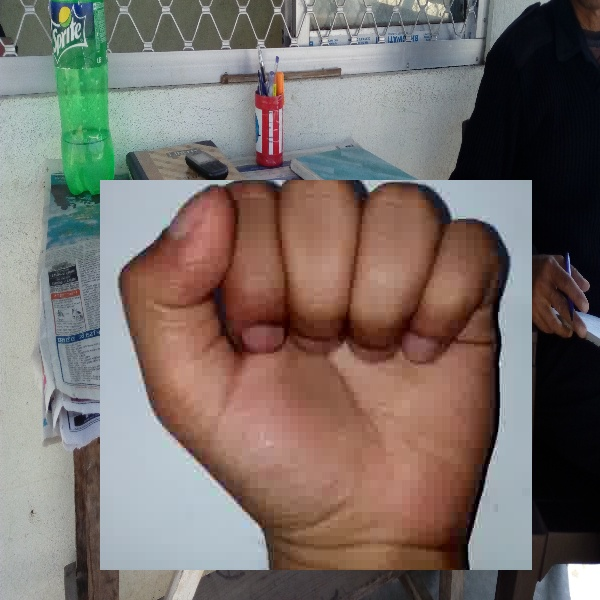A: (100, 180, 532, 570)
